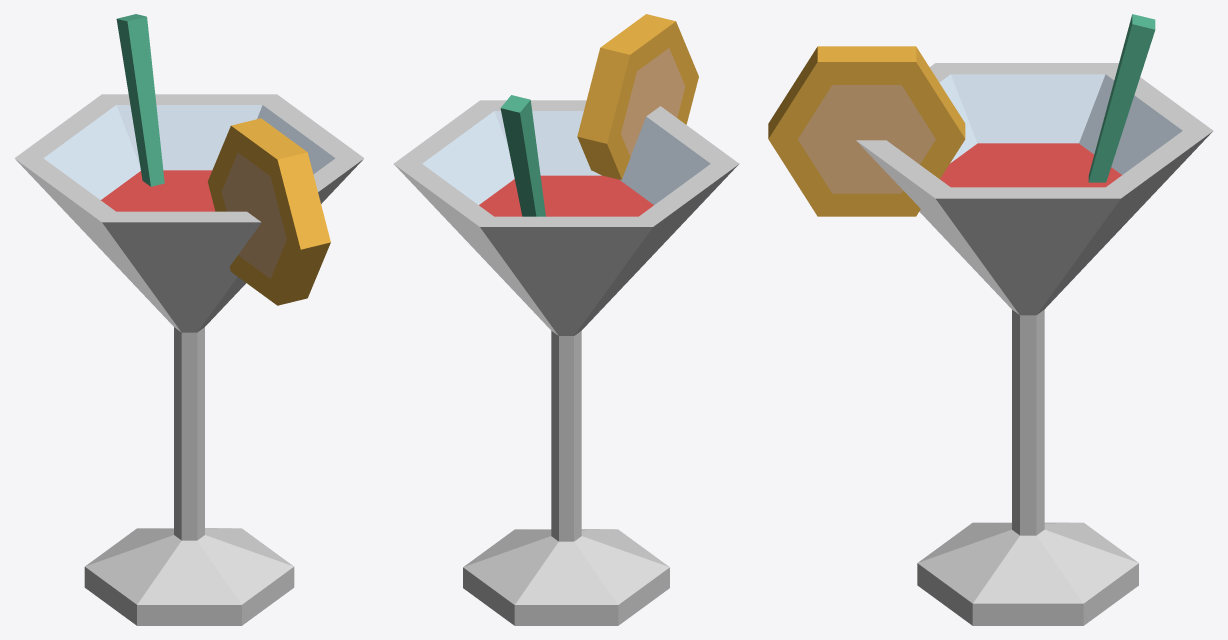
The model's file is cocktail.obj.
3 renders of one model, left to right at view 1: azimuth 30°, elevation 25°; view 2: azimuth 150°, elevation 25°; view 3: azimuth 270°, elevation 25°, orthographic. The views are drawn at different scales.
Visible parts, largest first — view 1: cocktail, lemon, straw; view 2: cocktail, lemon, straw; view 3: cocktail, lemon, straw.
Boxes of the visible parts, bbox=[...] form: cocktail: bbox=[14, 94, 364, 625]; lemon: bbox=[207, 118, 330, 305]; straw: bbox=[116, 14, 164, 186]; cocktail: bbox=[393, 100, 739, 625]; lemon: bbox=[577, 14, 698, 179]; straw: bbox=[500, 95, 545, 216]; cocktail: bbox=[856, 63, 1213, 625]; lemon: bbox=[768, 46, 965, 216]; straw: bbox=[1088, 14, 1155, 182].
Size of the model in its own units: 0.2607 by 0.5059 by 0.3615.
